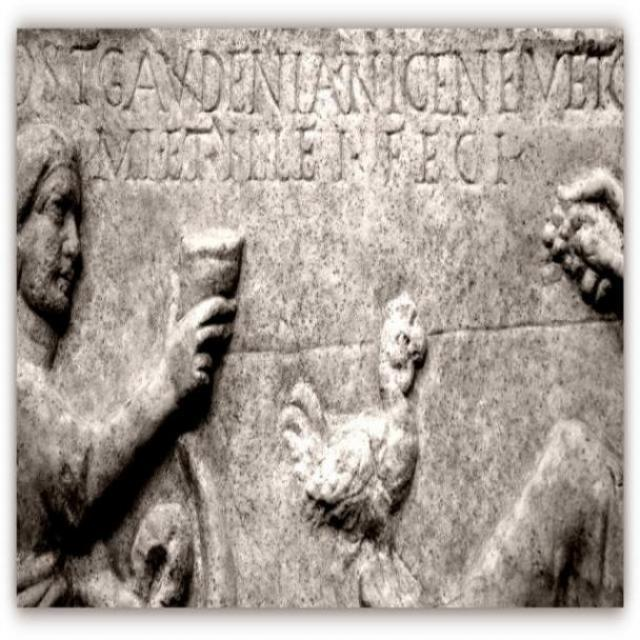Chicken: (266, 297, 435, 547)
